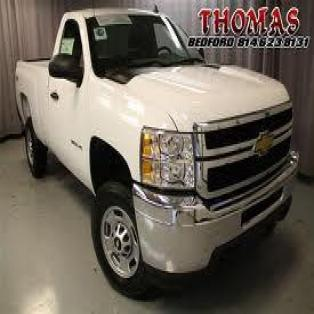Auto: (11, 10, 302, 300)
